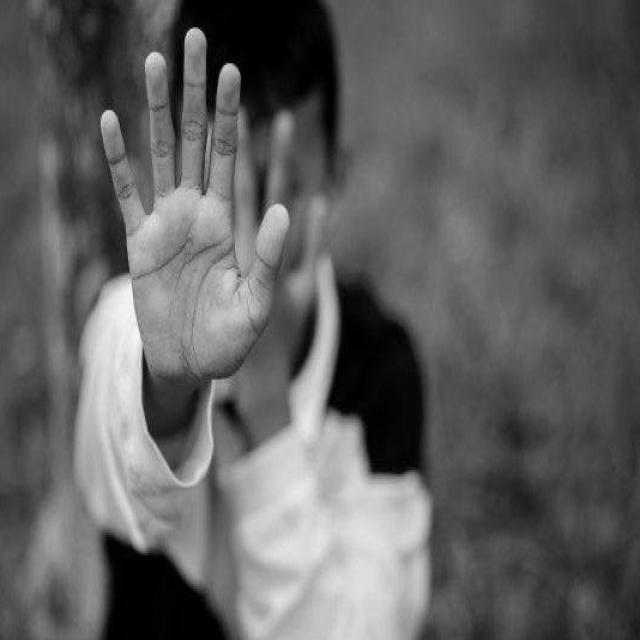stop: (96, 21, 294, 400)
